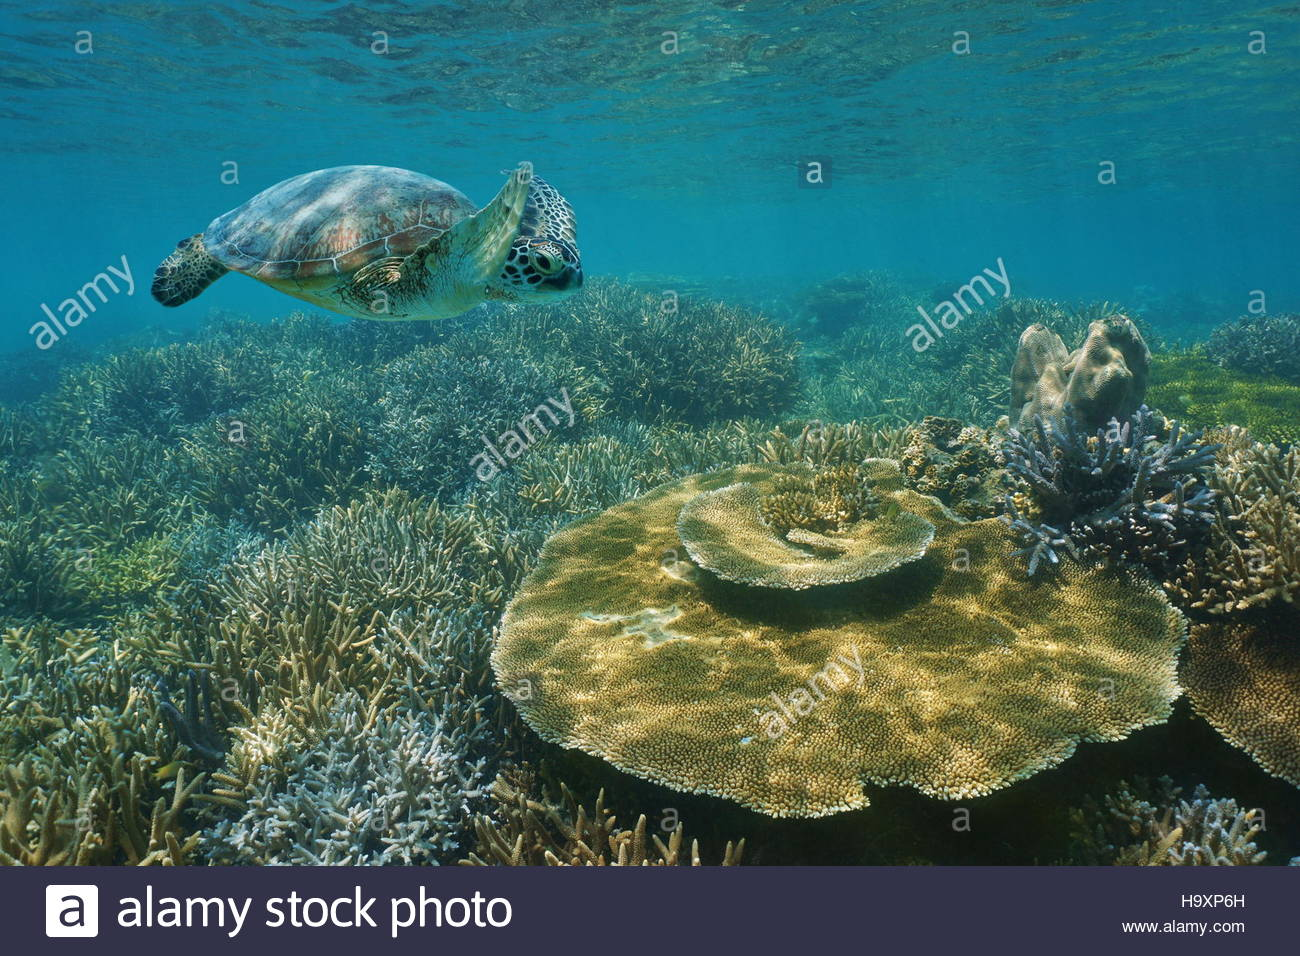trutle: (118, 138, 607, 353)
